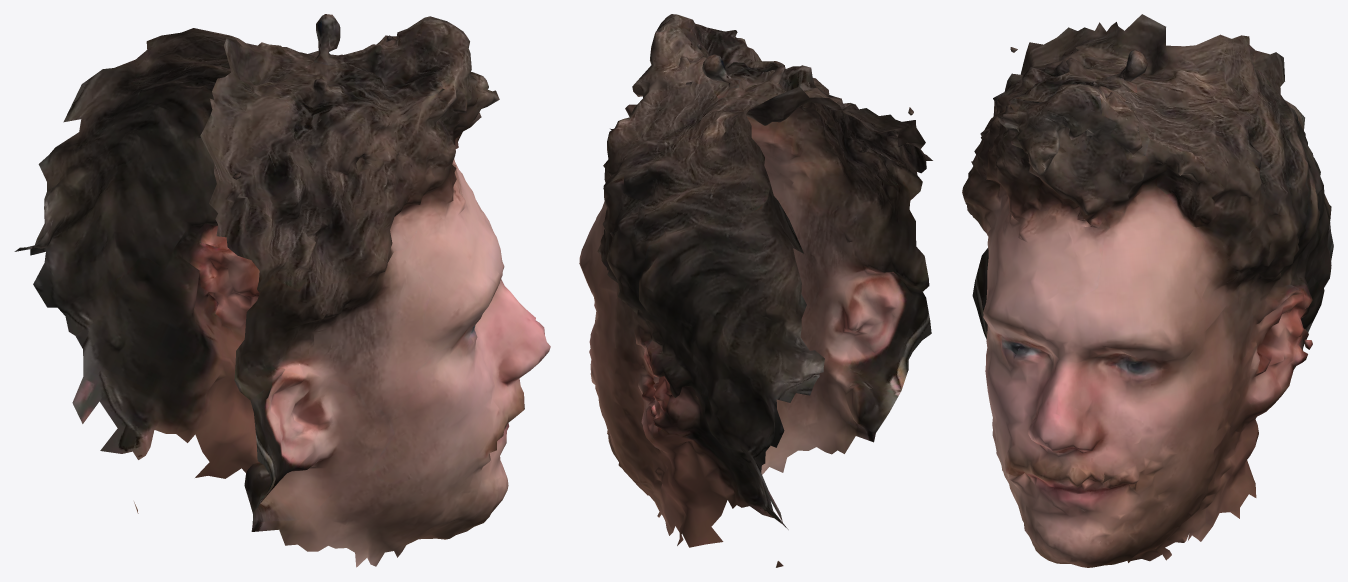
The picture shows the model from 3 angles, left to right: view 1: azimuth 30°, elevation 25°; view 2: azimuth 150°, elevation 25°; view 3: azimuth 270°, elevation 25°; orthographic projection. The views are drawn at different scales.
Visible parts, largest first — view 1: 3DModel_LowPoly; view 2: 3DModel_LowPoly; view 3: 3DModel_LowPoly.
Boxes of the visible parts, x1=… form: 3DModel_LowPoly: x1=14, y1=14, x2=550, y2=567; 3DModel_LowPoly: x1=579, y1=14, x2=932, y2=567; 3DModel_LowPoly: x1=962, y1=14, x2=1333, y2=567.
Bounding box in the file's own units: 1.95 × 2.59 × 1.77.
1 material, 1 textured.
